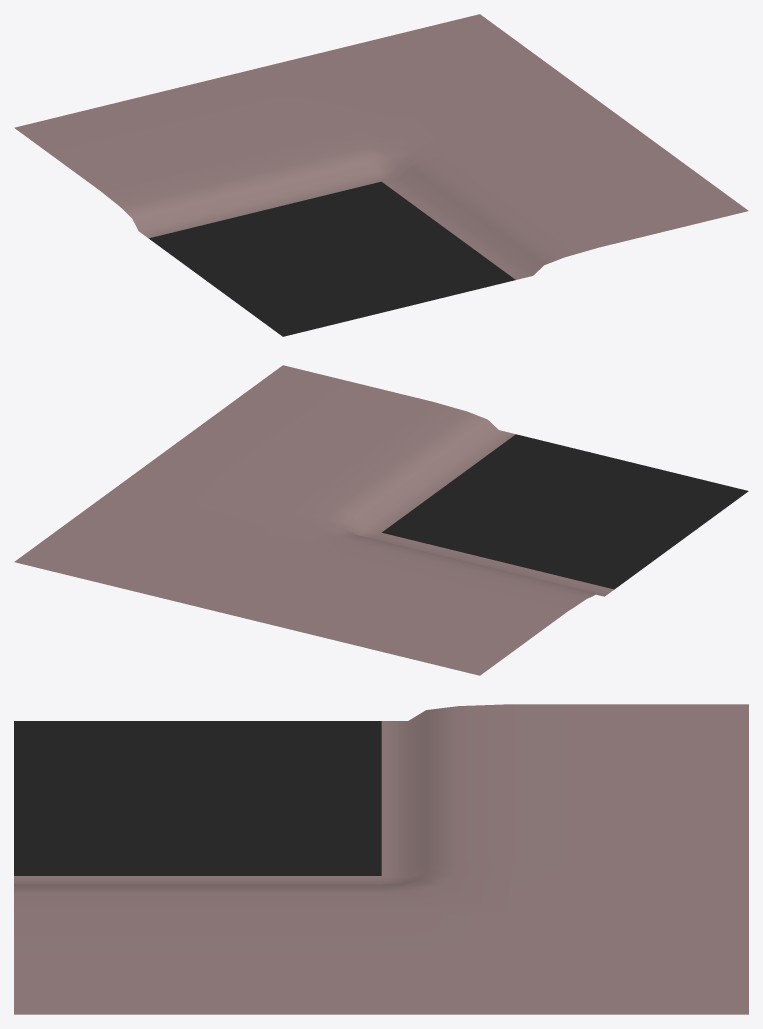
The model's file is notrans corner in lod1.FBX.
3 renders of one model, top to bottom at view 1: azimuth 30°, elevation 25°; view 2: azimuth 150°, elevation 25°; view 3: azimuth 270°, elevation 25°, orthographic. The views are drawn at different scales.
Visible parts, largest first — view 1: Plane059; view 2: Plane059; view 3: Plane059.
Boxes of the visible parts, bbox=[...] form: Plane059: bbox=[14, 14, 748, 336]; Plane059: bbox=[14, 365, 748, 675]; Plane059: bbox=[14, 704, 748, 1014].
Size of the model in its own units: 3 by 0.075 by 3.
